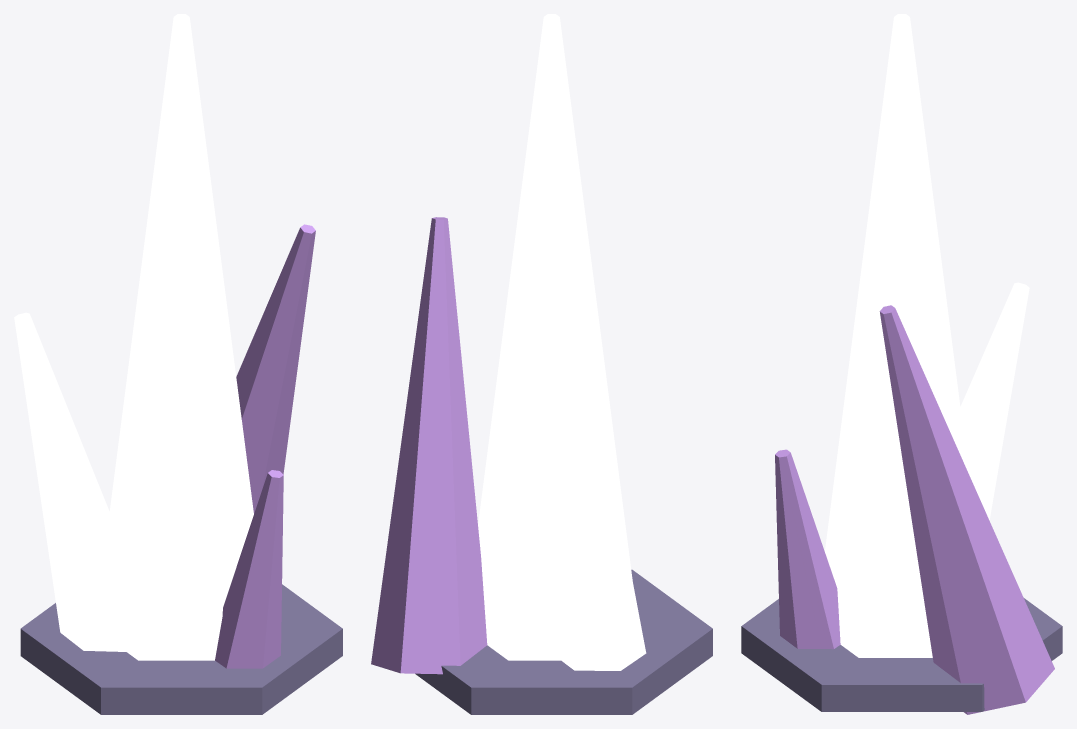
Rendered from alien__crystals.fbx.
3 views of the same model, side by side, from view 1: azimuth 30°, elevation 25°; view 2: azimuth 150°, elevation 25°; view 3: azimuth 270°, elevation 25° (orthographic).
Visible parts, largest first — view 1: alien__crystals; view 2: alien__crystals; view 3: alien__crystals.
Boxes of the visible parts, x1,y1,x2,y2 form: alien__crystals: [14, 14, 342, 714]; alien__crystals: [371, 14, 712, 714]; alien__crystals: [741, 14, 1062, 714].
Bounding box in the file's own units: 2.82 × 7.06 × 3.2.
